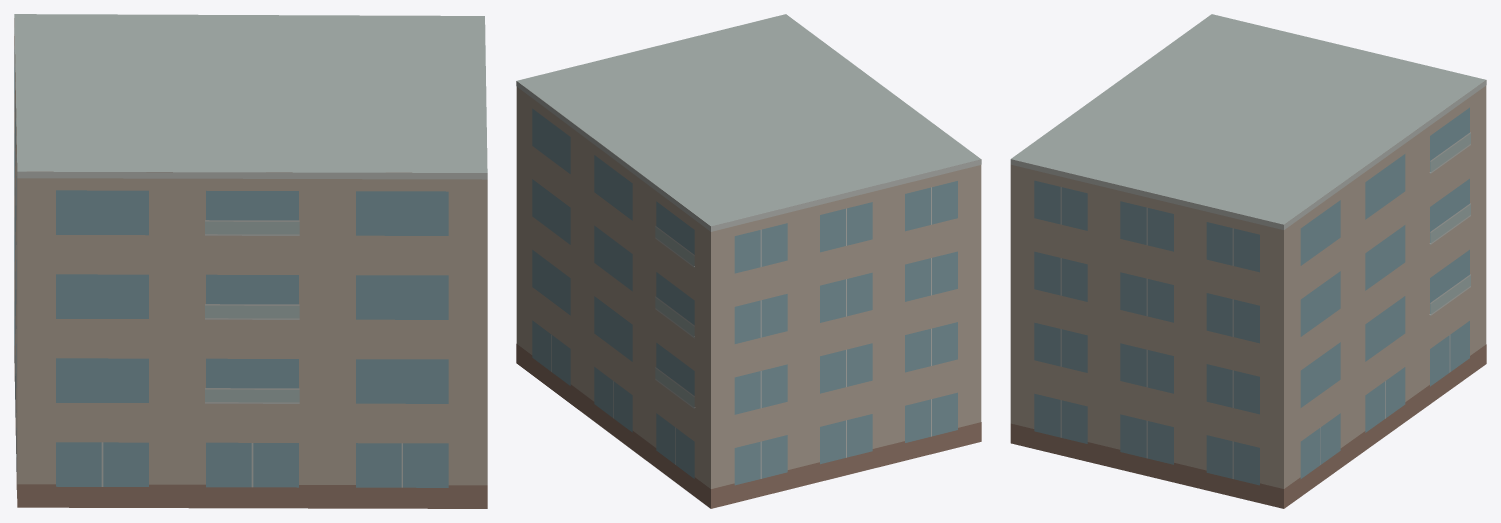
Rendered from survey-upis-32722108.glb.
The picture shows the model from 3 angles, left to right: view 1: azimuth 30°, elevation 25°; view 2: azimuth 150°, elevation 25°; view 3: azimuth 270°, elevation 25°; orthographic projection. The views are drawn at different scales.
Visible parts, largest first — view 1: survey-upis-32722108.tmp; view 2: survey-upis-32722108.tmp; view 3: survey-upis-32722108.tmp.
Part boxes in pixels (x1,y1,x2,y2): survey-upis-32722108.tmp: (14, 14, 487, 508); survey-upis-32722108.tmp: (516, 14, 981, 508); survey-upis-32722108.tmp: (1010, 14, 1486, 508).
Size of the model in its own units: 20.04 by 12.6 by 19.13.
